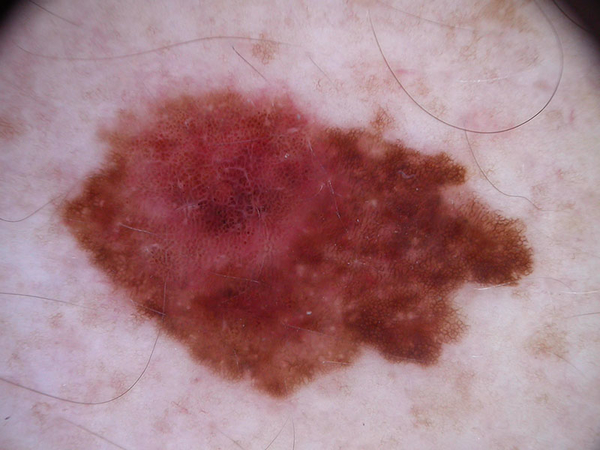Detected Lesion: (53, 86, 535, 405)
